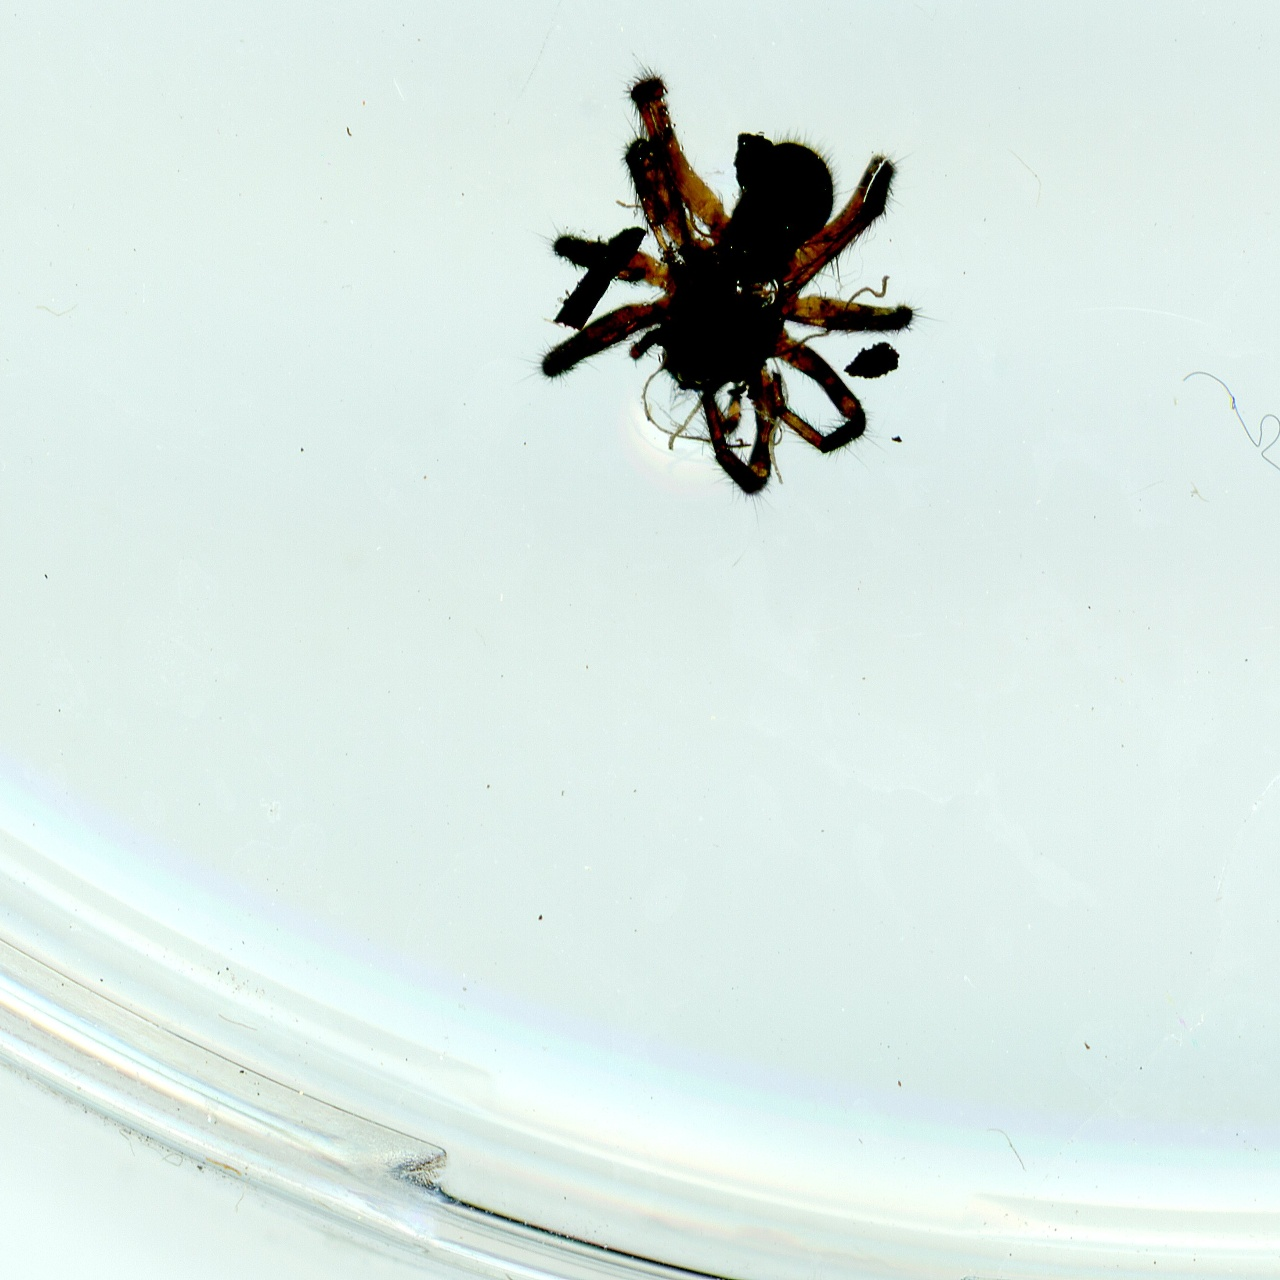arthropod: (535, 57, 915, 502)
